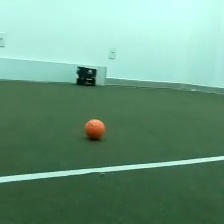ball: (82, 116, 107, 142)
goal: (1, 56, 109, 88)
robot: (75, 63, 98, 87)
